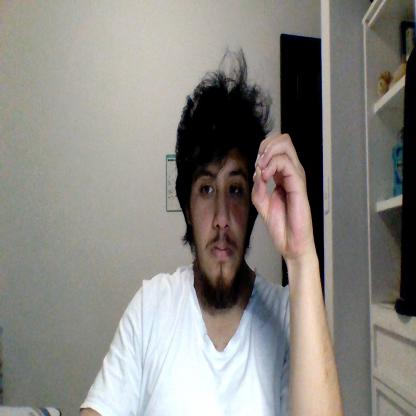O: (251, 130, 311, 255)
